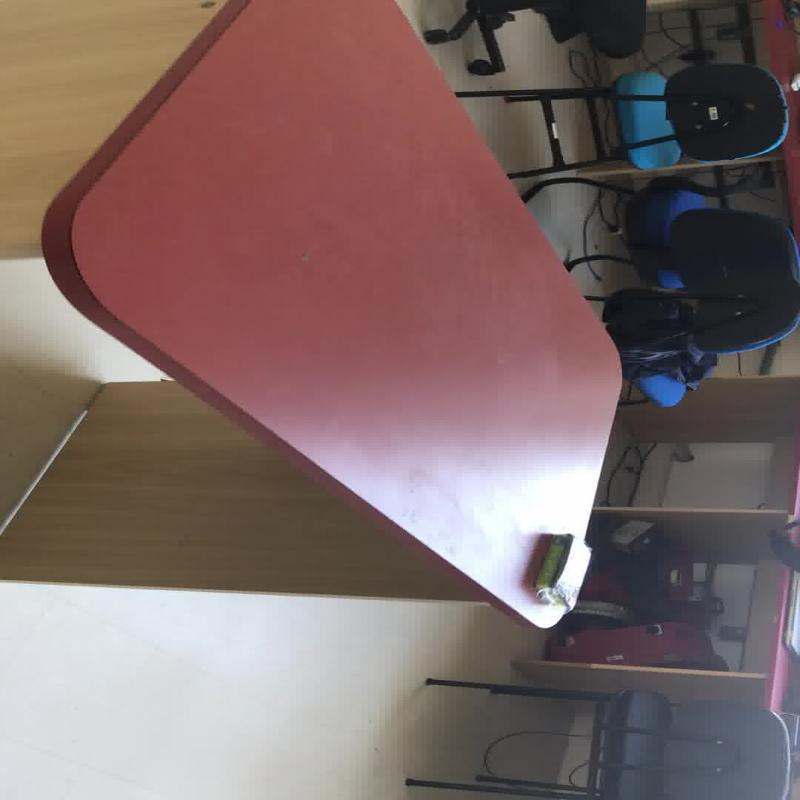sponge: (37, 0, 625, 628), (610, 68, 682, 169), (532, 532, 572, 594)
